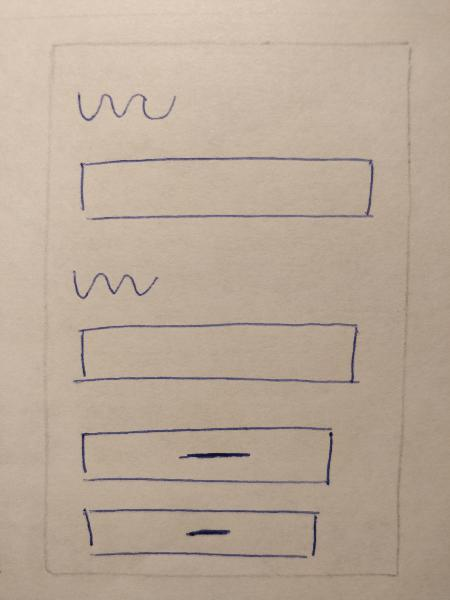button: (72, 421, 337, 489), (76, 500, 324, 568)
text: (69, 76, 188, 134), (67, 263, 169, 310)
text_input: (65, 146, 388, 230), (69, 320, 366, 391)
